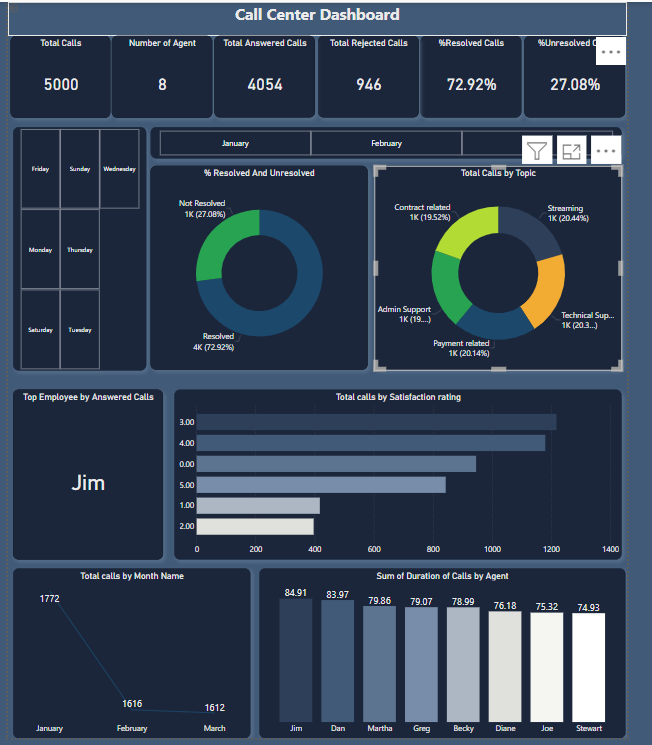

This screenshot's page, from the dashboard's own definition file:
{"tool":"powerbi","page":{"name":"Page 1","canvas":[2100,2500],"ordinal":0},"visuals":[{"type":"card","title":"Total Calls","fields":{"Values":["Call Center.Total calls"]},"box":[8.3,114,339.5,279.1],"z":0},{"type":"card","title":"%Resolved Calls","fields":{"Values":["Call Center.%Resolved Calls"]},"box":[1401.2,115,342.5,277.5],"z":1000},{"type":"card","title":"%Unresolved Calls","fields":{"Values":["Call Center.%Unresolved Calls"]},"box":[1751.2,115,342.5,277.5],"z":2000},{"type":"card","title":"Total Rejected Calls","fields":{"Values":["Sum(Call Center.Rejected Calls)"]},"box":[1051.2,115,342.5,277.5],"z":3000},{"type":"textbox","box":[0,0,2100,114],"z":4000},{"type":"card","title":"Number of Agent","fields":{"Values":["Count(Call Center.Agent)"]},"box":[353.5,114,341.9,279.1],"z":5000},{"type":"card","title":"Total Answered Calls","fields":{"Values":["Sum(Call Center.Answered Calls)"]},"box":[701.2,115,342.5,277.5],"z":6000},{"type":"actionButton","box":[0,0,100,40],"z":7000},{"type":"slicer","fields":{"Values":["Call Center.Date.Variation.Date Hierarchy.Month"]},"box":[485,422.5,1600,107.5],"z":8000},{"type":"slicer","fields":{"Values":["Call Center.Day Name"]},"box":[18,422.5,452.5,827.5],"z":9000},{"type":"donutChart","title":"% Resolved And Unresolved","fields":{"Y":["Call Center.Total calls"],"Category":["Call Center.Solution"]},"box":[485,557.5,737.5,692.5],"z":10000},{"type":"donutChart","title":"Total Calls by Topic","fields":{"Y":["Call Center.Total calls"],"Category":["Call Center.Topic"]},"box":[1245,557.5,840,692.5],"z":11000},{"type":"card","title":"Top Employee by Answered Calls","fields":{"Values":["Min(Call Center.Agent)"]},"box":[17,1315.8,509.3,577.2],"z":12000},{"type":"clusteredBarChart","fields":{"Y":["Call Center.Total calls"],"Category":["Call Center.Satisfaction rating"]},"box":[564.5,1315.8,1519.5,577.2],"z":13000},{"type":"clusteredColumnChart","fields":{"Y":["Sum(Call Center.Duration of Calls)"],"Category":["Call Center.Agent"]},"box":[853.1,1922.8,1243.6,577.2],"z":14000},{"type":"lineChart","fields":{"Category":["Call Center.Month Name"],"Y":["Call Center.Total calls"]},"box":[17,1922.8,806.5,577.2],"z":15000}]}

Visuals, with their boxes in screenshot pixels (x1, y1, x2, y2):
"Total Calls" card: select_region(8, 35, 108, 117)
"%Resolved Calls" card: select_region(418, 36, 518, 117)
"%Unresolved Calls" card: select_region(520, 36, 621, 117)
"Total Rejected Calls" card: select_region(315, 36, 415, 117)
textbox: select_region(6, 2, 623, 35)
"Number of Agent" card: select_region(110, 35, 210, 117)
"Total Answered Calls" card: select_region(212, 36, 313, 117)
actionButton: select_region(6, 2, 35, 14)
slicer - Call Center.Date.Variation.Date Hierarchy.Month: select_region(148, 126, 619, 158)
slicer - Call Center.Day Name: select_region(11, 126, 144, 369)
"% Resolved And Unresolved" donutChart: select_region(148, 166, 365, 369)
"Total Calls by Topic" donutChart: select_region(372, 166, 619, 369)
"Top Employee by Answered Calls" card: select_region(11, 389, 160, 558)
clusteredBarChart - Call Center.Total calls x Call Center.Satisfaction rating: select_region(172, 389, 618, 558)
clusteredColumnChart - Sum(Call Center.Duration of Calls) x Call Center.Agent: select_region(257, 567, 622, 737)
lineChart - Call Center.Month Name x Call Center.Total calls: select_region(11, 567, 248, 737)
